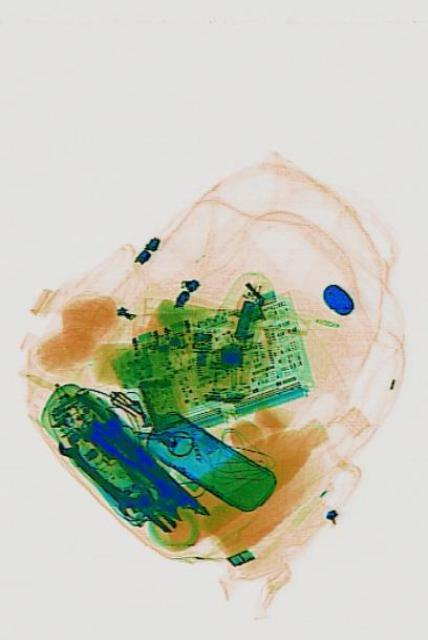Wrench: (84, 398, 195, 520), (53, 426, 136, 522)
